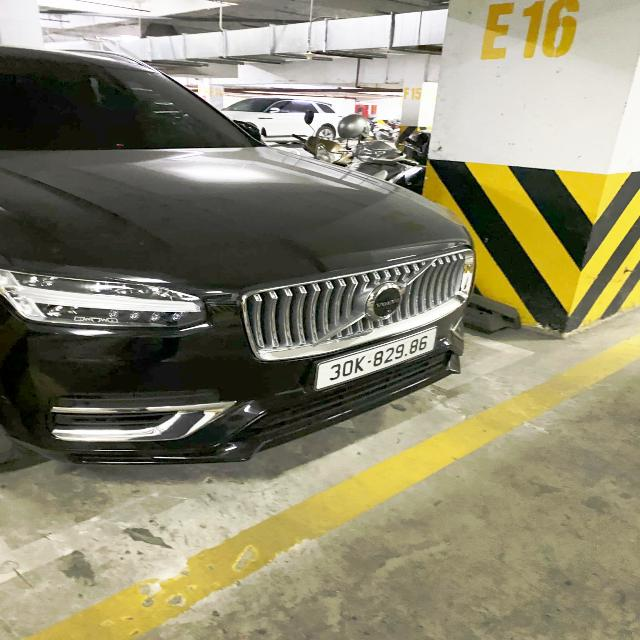license_plate: (315, 323, 442, 394)
